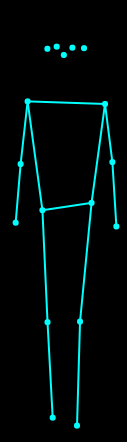mountain: (11, 33, 122, 433)
